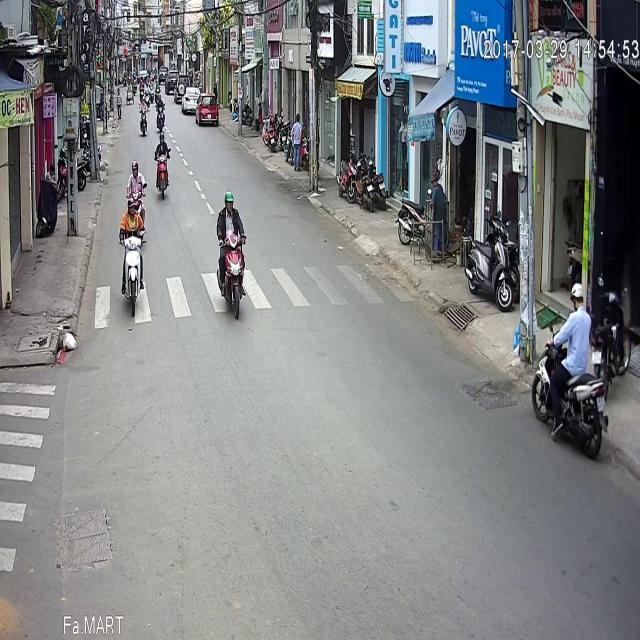car: (195, 34, 219, 66)
motorcycle: (530, 225, 608, 401), (216, 134, 246, 260), (118, 140, 144, 262), (126, 100, 148, 168), (152, 74, 172, 140), (155, 35, 165, 73), (138, 39, 148, 77)
